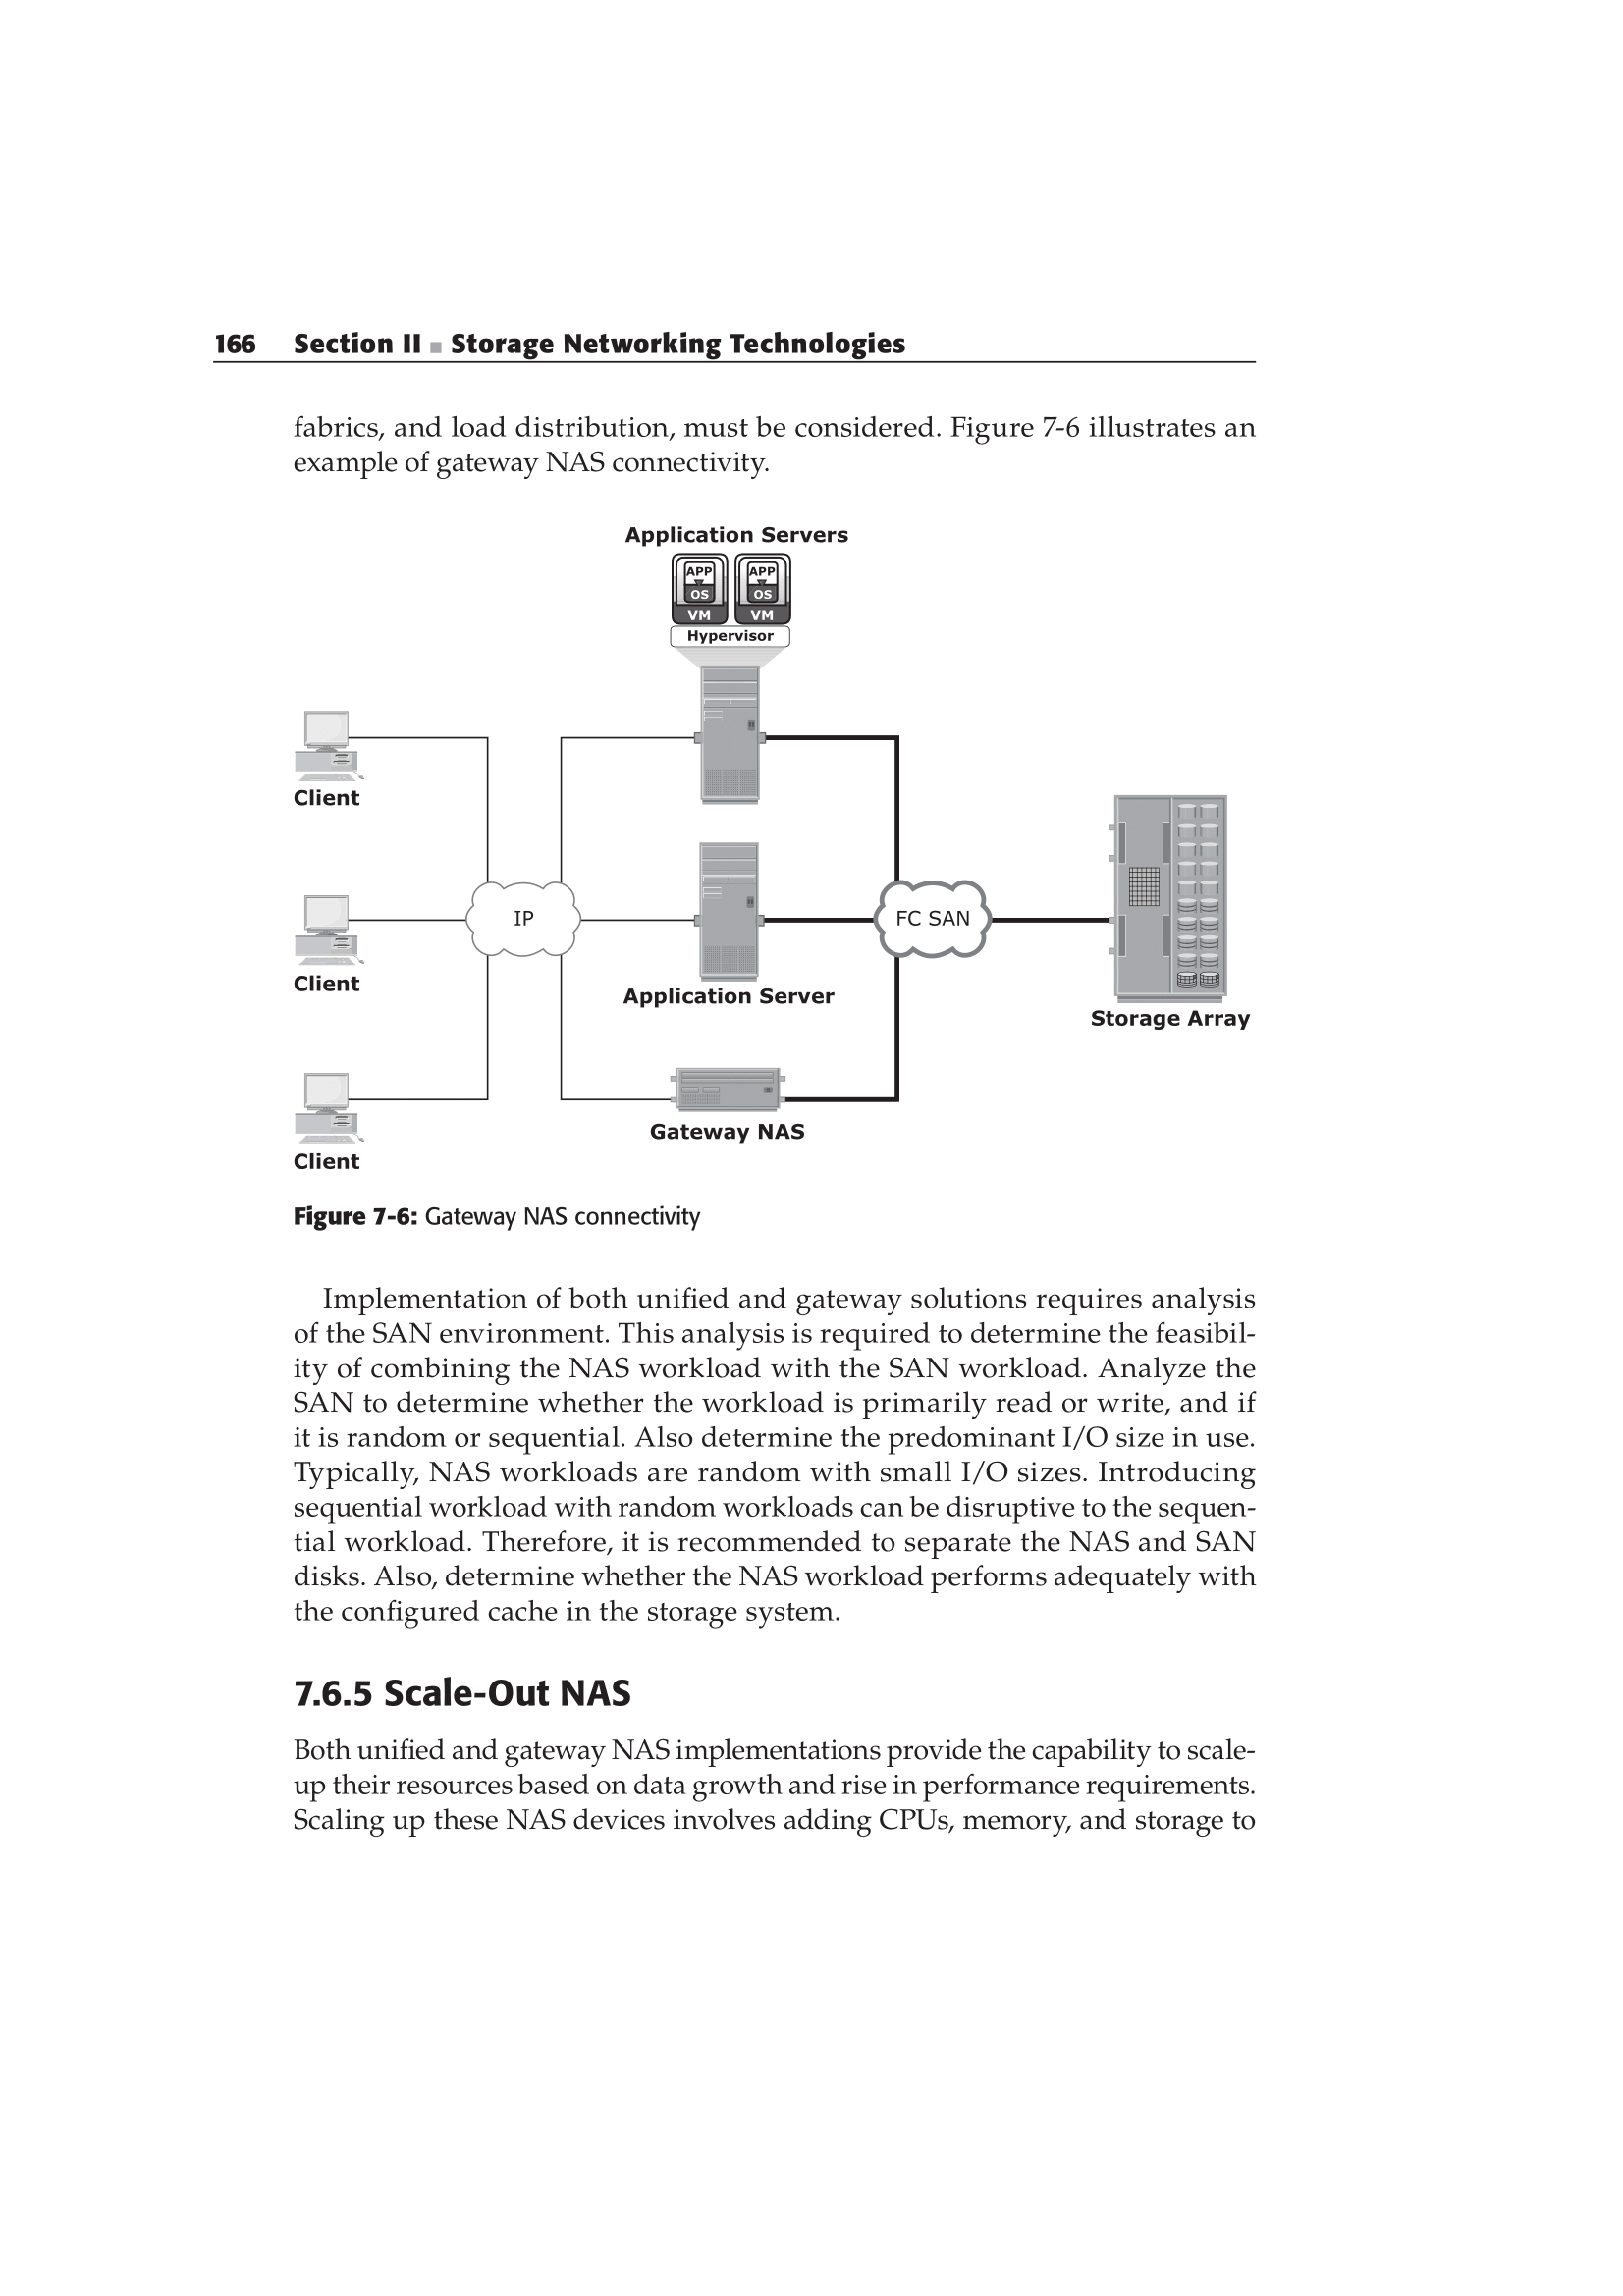Image: (79, 521, 1451, 1190)
Paragraph: (207, 1255, 1319, 1668), (225, 1726, 1279, 1871), (218, 400, 1368, 486), (156, 300, 994, 372), (156, 1201, 817, 1245), (193, 1678, 752, 1710)
